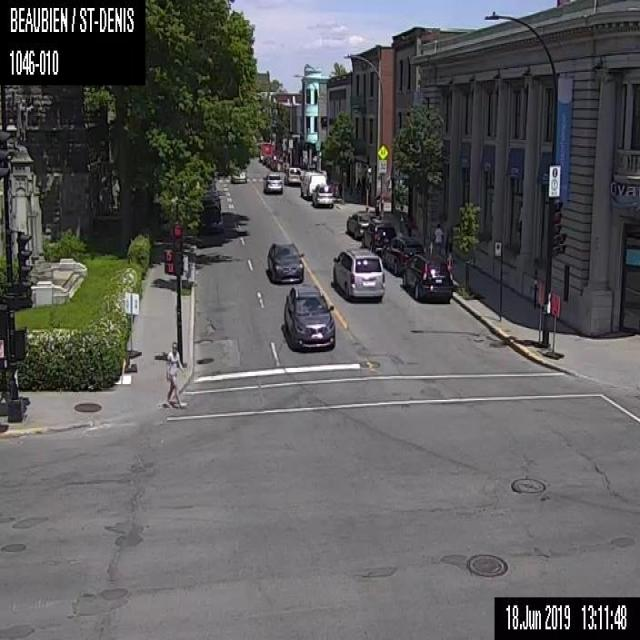construction: (544, 292, 562, 356), (532, 283, 544, 345)
pedestrian: (166, 341, 187, 407), (433, 222, 443, 255)
vehicle: (283, 284, 335, 352), (332, 247, 384, 302), (401, 254, 451, 303), (382, 236, 423, 275), (267, 242, 303, 283), (361, 220, 397, 256), (346, 210, 374, 240), (299, 170, 326, 200), (312, 183, 333, 208), (262, 173, 282, 193), (284, 166, 301, 186), (230, 167, 247, 183)
